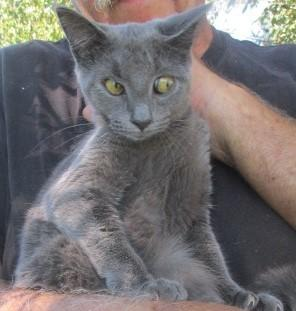rblue: (46, 1, 224, 168)
